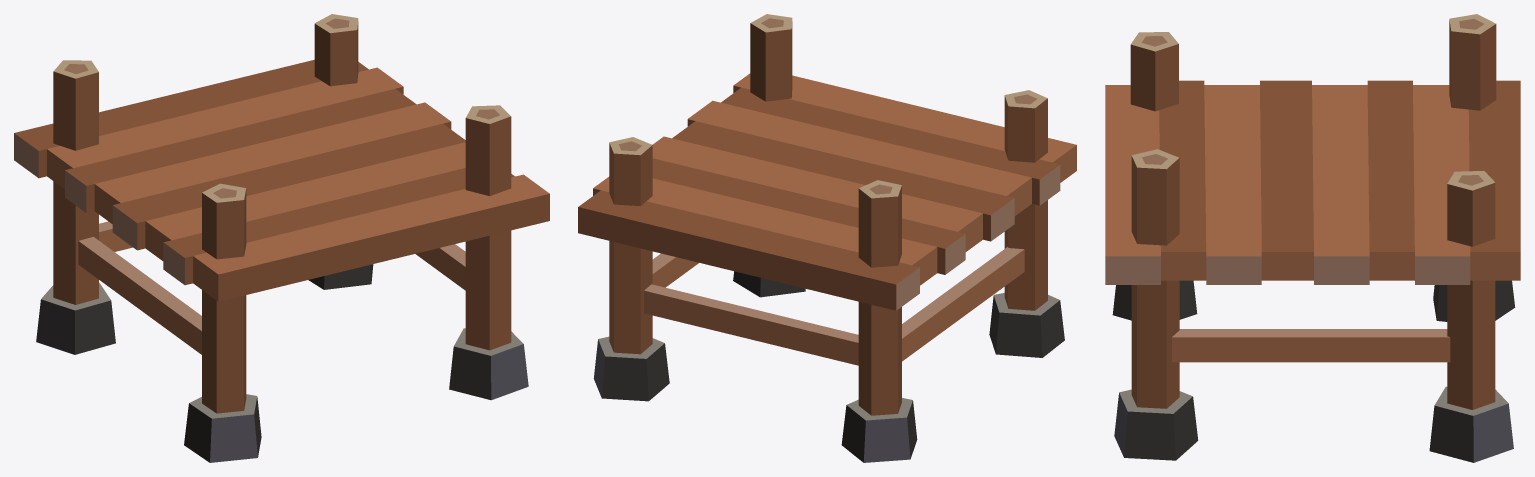
Rendered from fishing_hut.glb.
3 views of the same model, side by side, from view 1: azimuth 30°, elevation 25°; view 2: azimuth 150°, elevation 25°; view 3: azimuth 270°, elevation 25° (orthographic). The views are drawn at different scales.
Parts seen in each view (by area): view 1: TB_Bd_Fishing; view 2: TB_Bd_Fishing; view 3: TB_Bd_Fishing.
Part boxes in pixels (x1=…): TB_Bd_Fishing: x1=14, y1=14, x2=549, y2=462; TB_Bd_Fishing: x1=578, y1=14, x2=1076, y2=462; TB_Bd_Fishing: x1=1105, y1=14, x2=1520, y2=462.
Size of the model in its own units: 6.35 by 4.8 by 6.35.
Materials: 1 (1 with a texture image).
